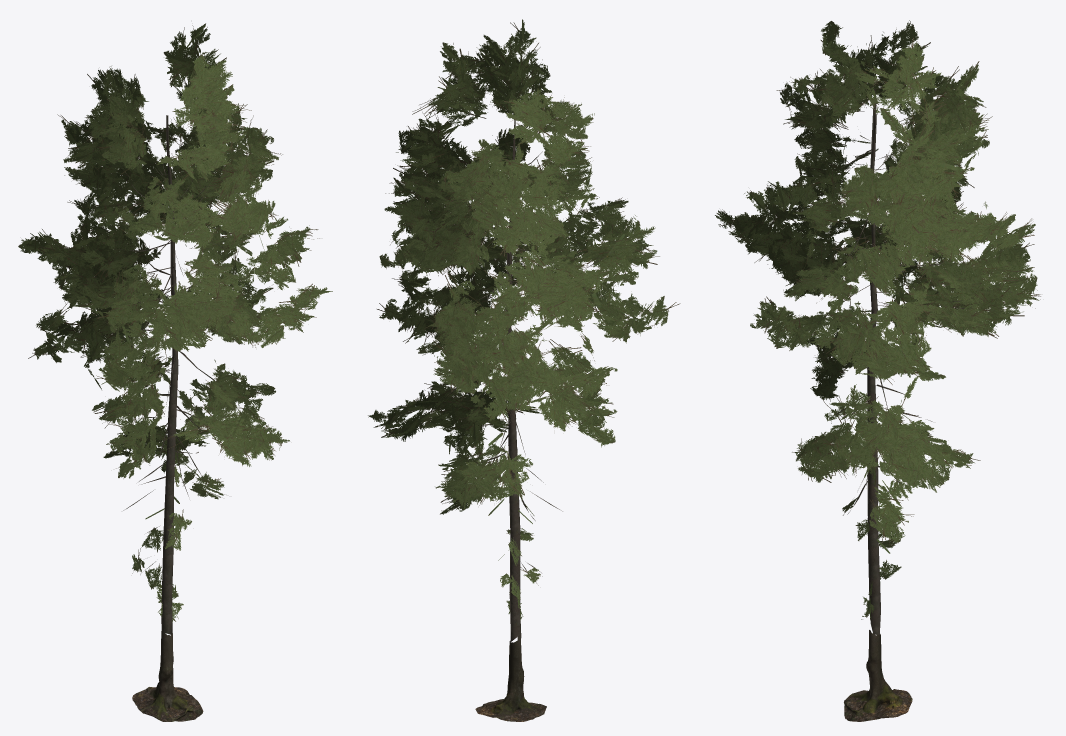
3 renders of one model, left to right at view 1: azimuth 30°, elevation 25°; view 2: azimuth 150°, elevation 25°; view 3: azimuth 270°, elevation 25°, orthographic. The views are drawn at different scales.
Parts seen in each view (by area): view 1: fir_tree_01__b_lod1; view 2: fir_tree_01__b_lod1; view 3: fir_tree_01__b_lod1.
Boxes of the visible parts, bbox=[...] form: fir_tree_01__b_lod1: bbox=[18, 23, 332, 721]; fir_tree_01__b_lod1: bbox=[368, 19, 680, 721]; fir_tree_01__b_lod1: bbox=[715, 20, 1040, 721].
Size of the model in its own units: 5.7 by 14.12 by 6.24.
Materials: 3 (3 with a texture image).
